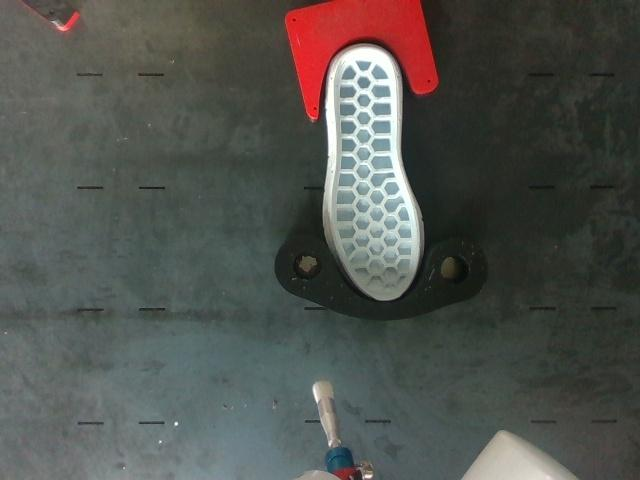shoes: (331, 46, 421, 300)
